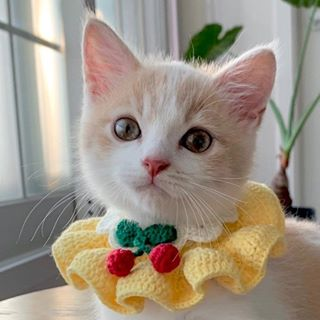cat: (68, 12, 282, 226)
